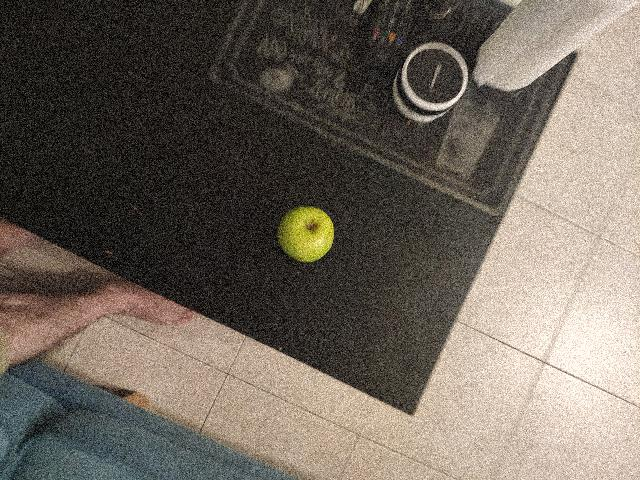apple: (365, 297, 430, 362)
